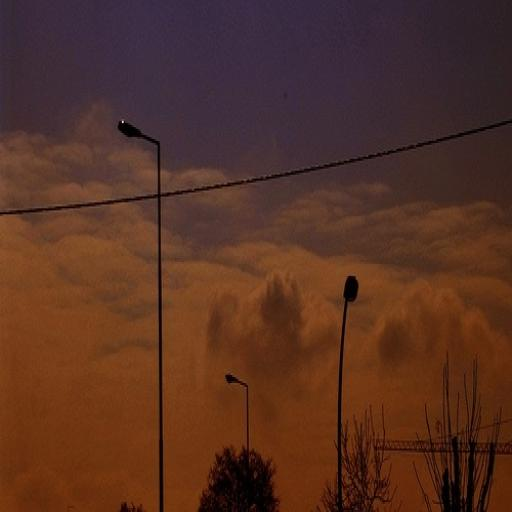off street light: (116, 108, 175, 512), (332, 260, 358, 512), (223, 356, 260, 512)
